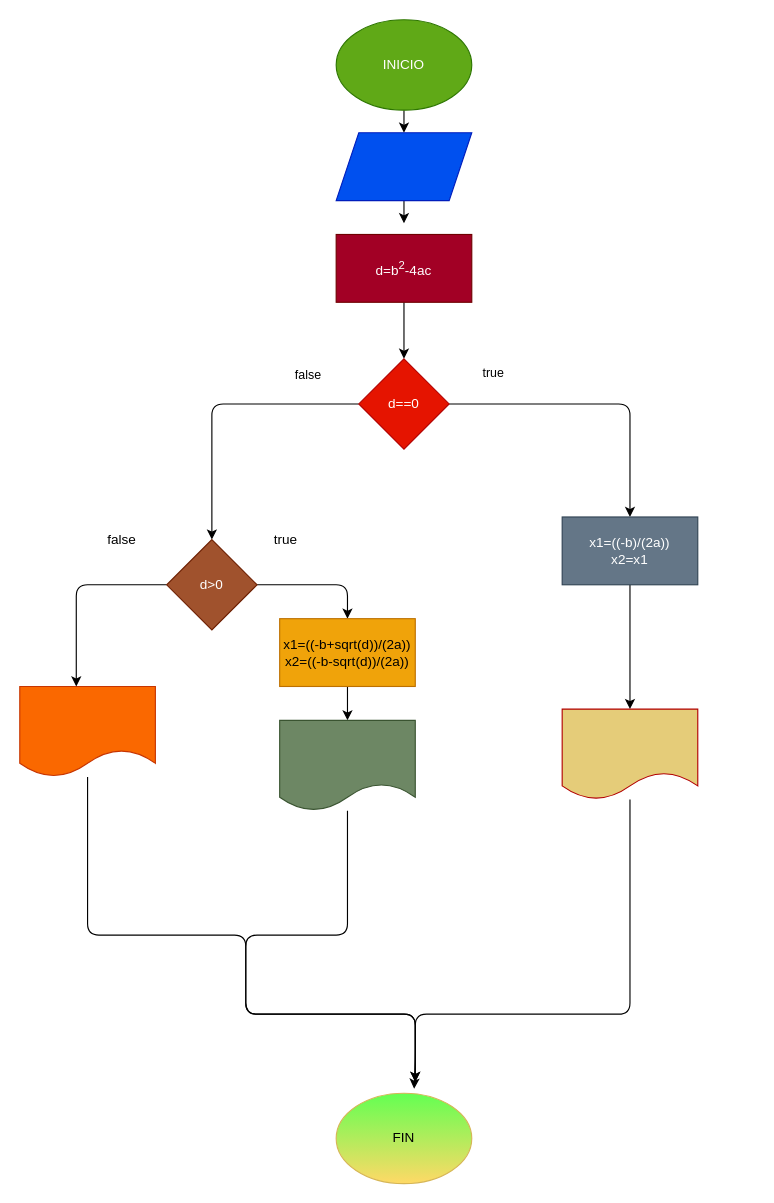
This 774x1203 diagram has some shape labels left out. The shapes that lost their labels are listed below. From the top down, each one's box as (x1, y1, x2, y2) in pixels, then its label:
(335, 132, 472, 201): a,b,c
(19, 685, 155, 777): numeros imaginarios
(279, 719, 415, 811): x1,x2
(561, 708, 698, 799): x1,x 2
